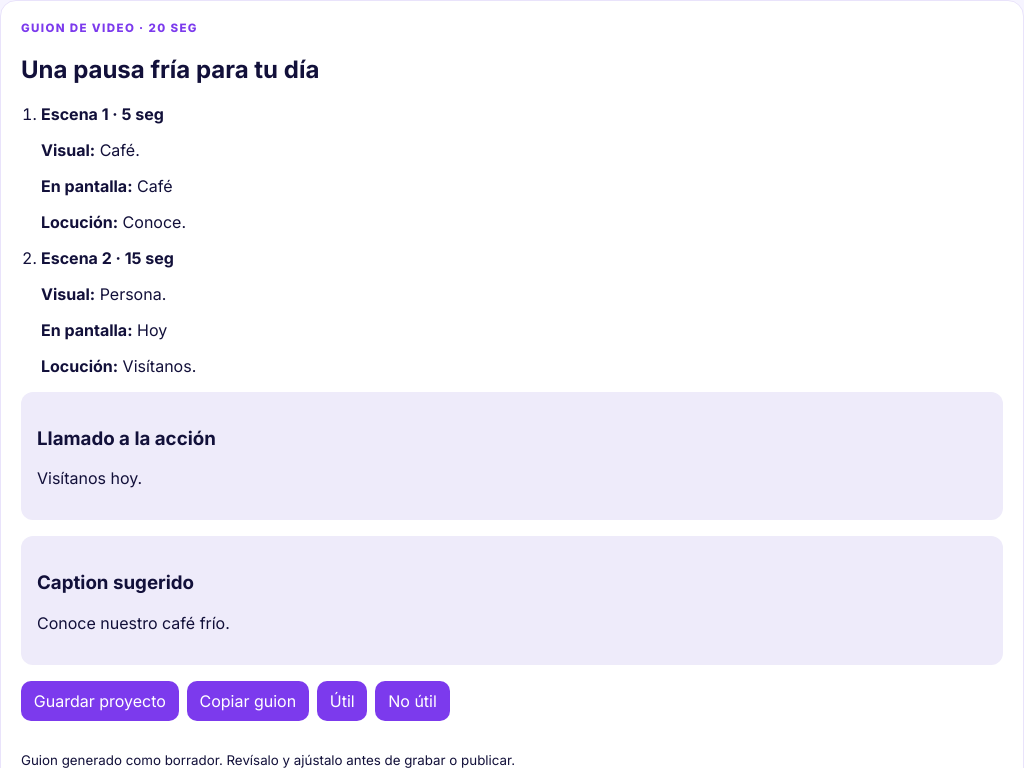
Test: GeneratedVideoScriptCard › copies the full script
The width and height of the screenshot is (1024, 768).
Click the button "Copiar guion": (248, 701) [187,681,309,722]
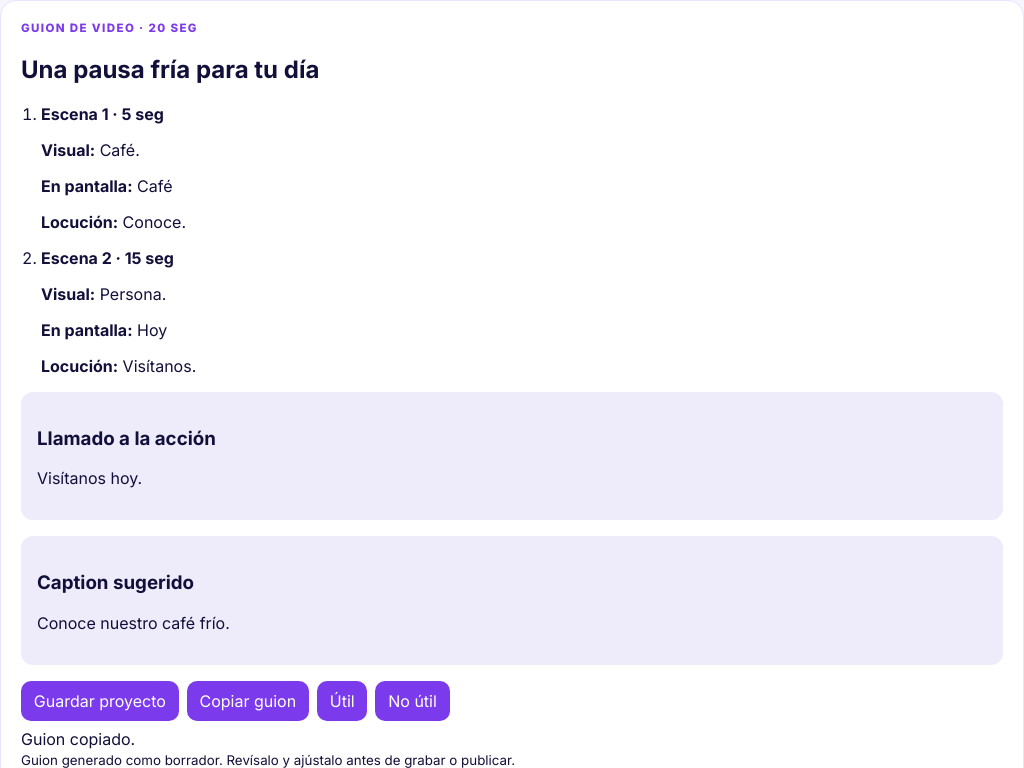
Now the message reads "Guion copiado.", box [21,730,135,750]
